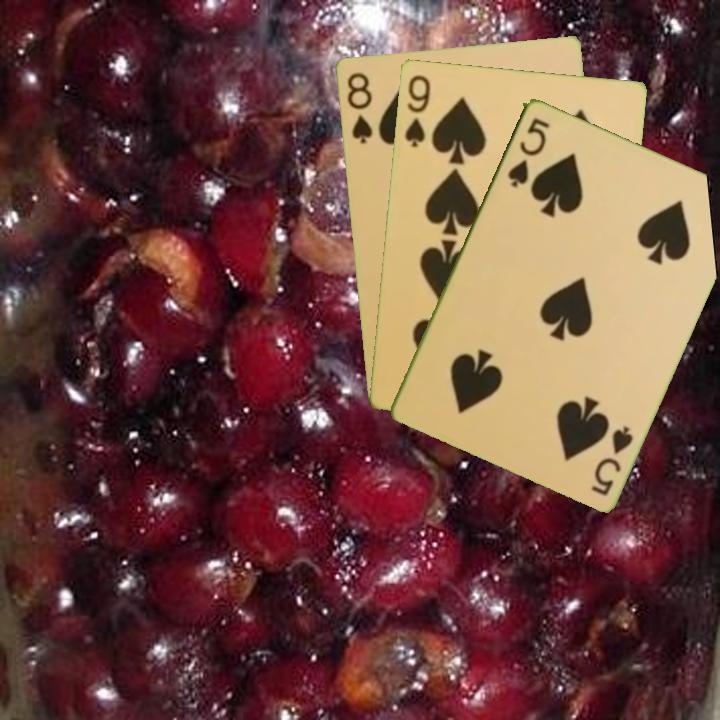5s: (587, 421, 636, 499), (504, 113, 552, 190)
8s: (343, 68, 375, 146)
9s: (400, 71, 433, 150)
